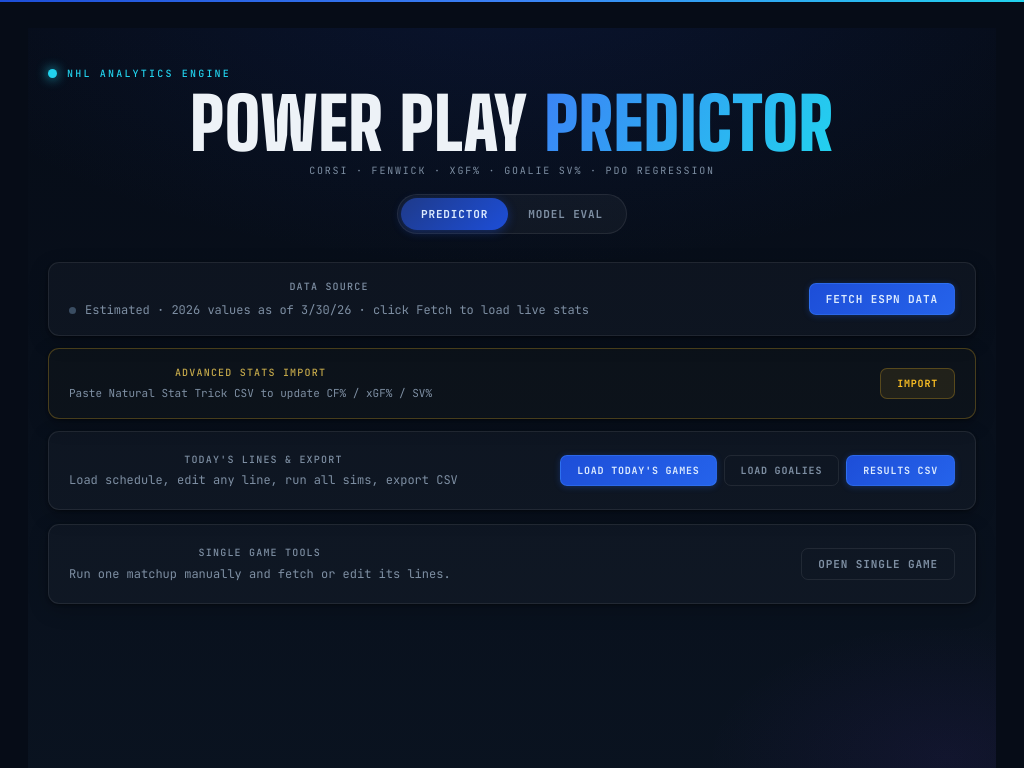
it: single game tools collapse › is closed by default and reveals the full single-game setup when opened
The image size is (1024, 768).
Check: the text "Run Analysis" is not shown
Click the button "Open Single Game".
click(878, 564)  # box [801,548,955,580]
(page scrolled)
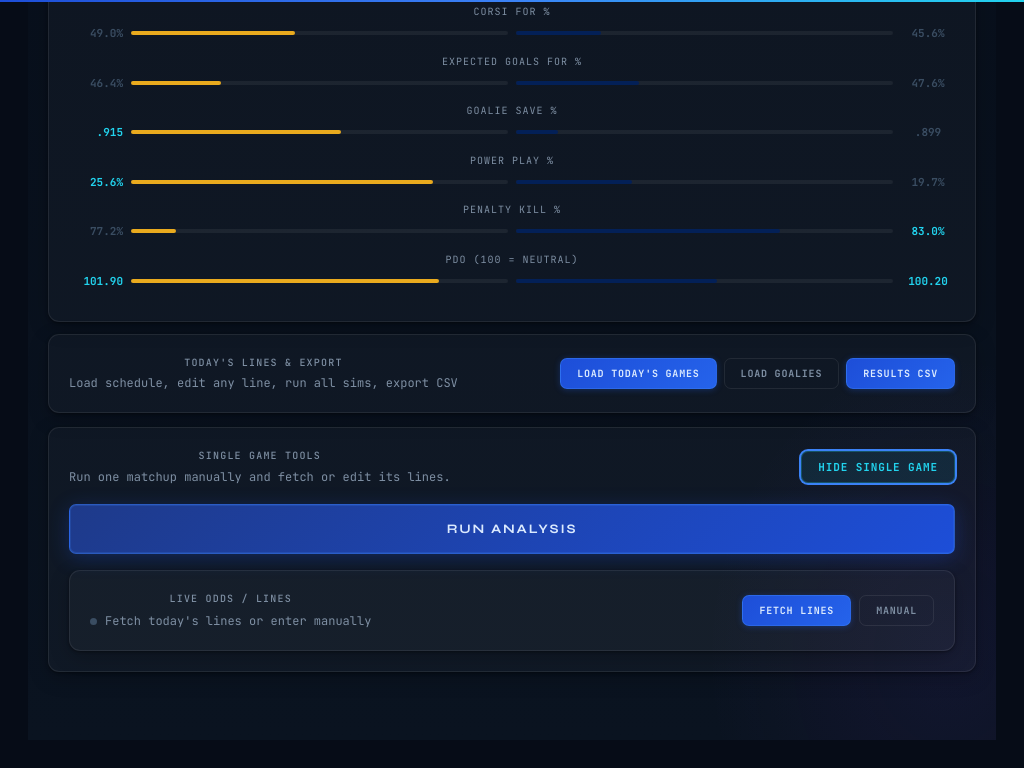
Check: the button "Hide Single Game" is shown
Check: the button "Run Analysis" is shown, box [69,504,955,554]
Check: the text "Live Odds / Lines" is shown, box [170,592,292,605]
Click the button "Hide Single Game".
click(878, 467)  # box [801,451,955,483]
(page scrolled)
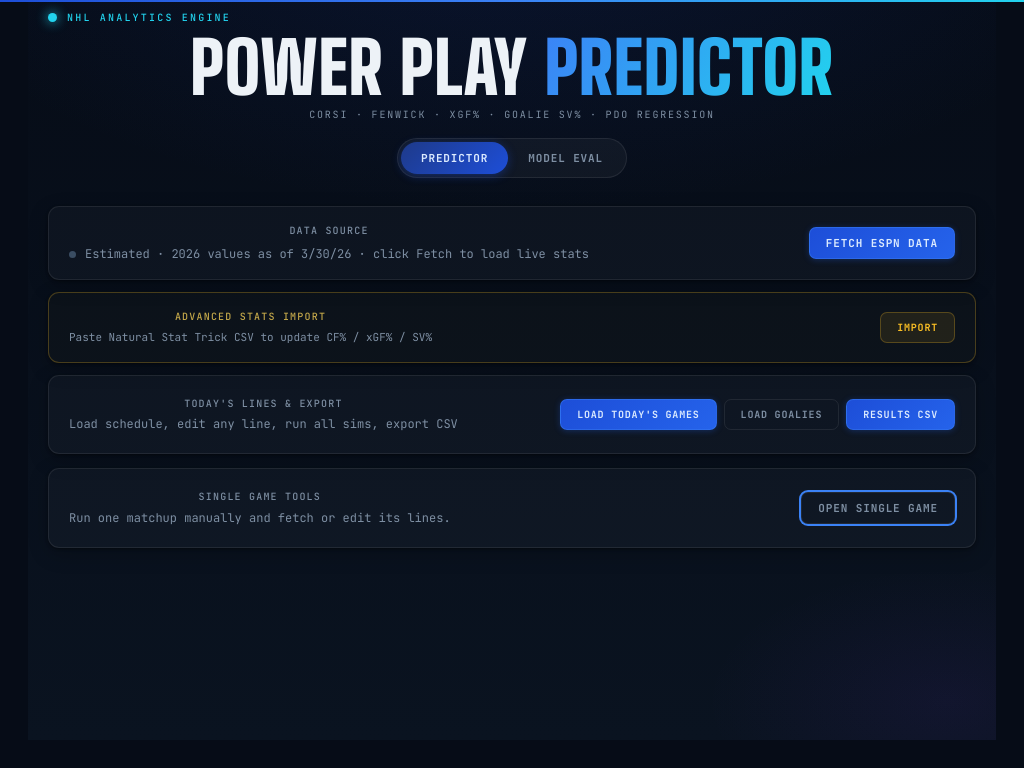
Check: the button "Run Analysis" is gone
